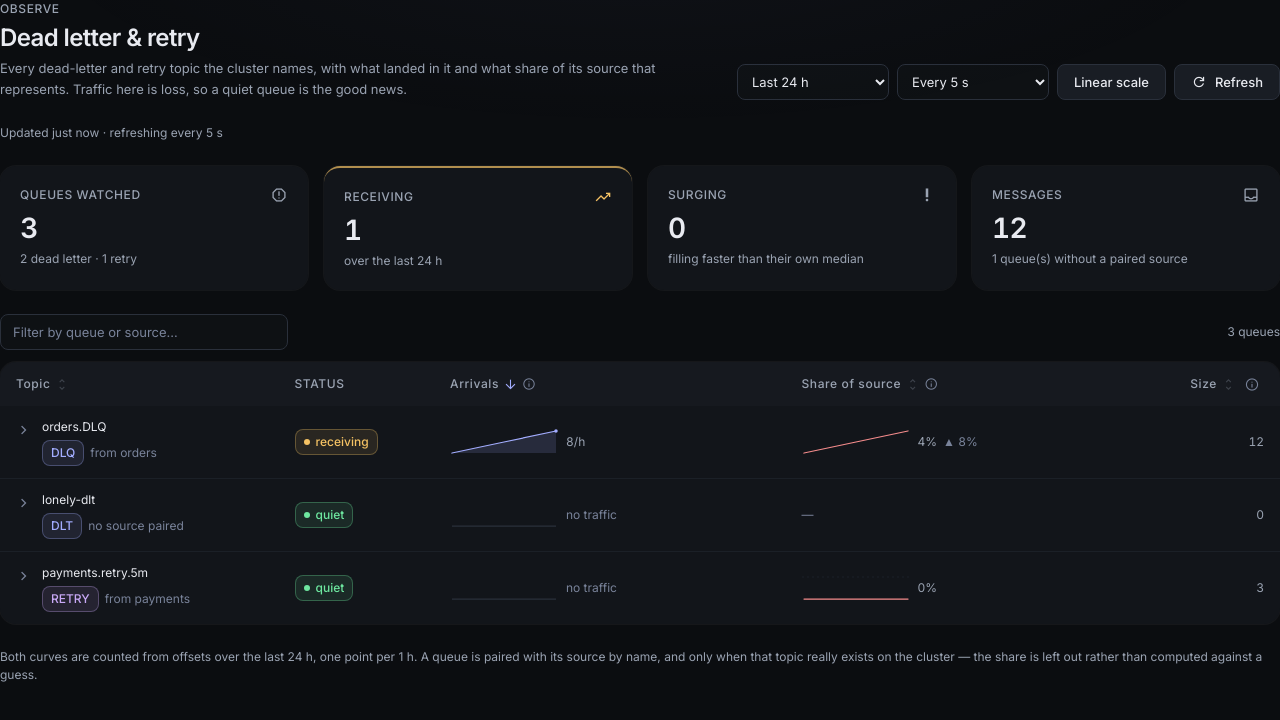
Test case: DeadLetter › reads a queue only when its row is opened, and says what the sample is
Expected: the text "receiving" is shown, [294, 429, 378, 455]
Click the button named "Show what is arriving in orders.DLQ".
click(24, 430)  # box [12, 418, 36, 442]
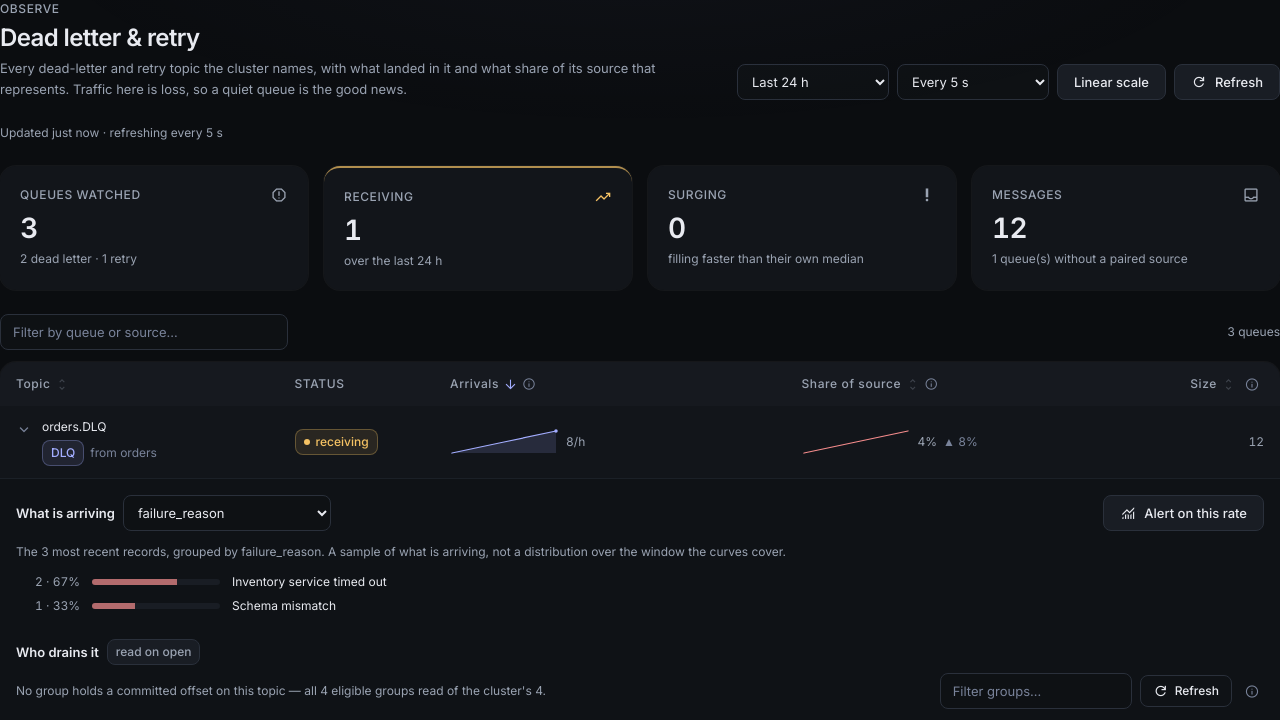
Expected: the text "not a distribution over the window" is shown, [16, 544, 786, 559]
Expected: the text "Inventory service timed out" is shown, [232, 573, 387, 591]
